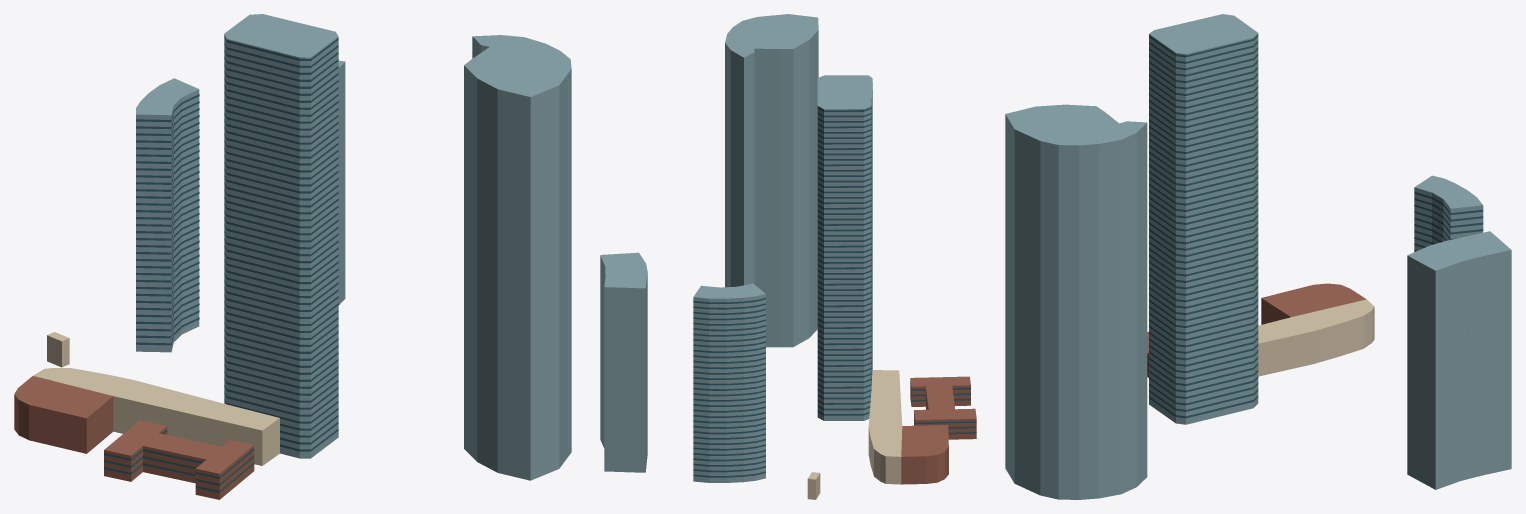
Rendered from city_4_2.glb.
The picture shows the model from 3 angles, left to right: view 1: azimuth 30°, elevation 25°; view 2: azimuth 150°, elevation 25°; view 3: azimuth 270°, elevation 25°; orthographic projection. The views are drawn at different scales.
Visible parts, largest first — view 1: city_4_2; view 2: city_4_2; view 3: city_4_2.
Boxes of the visible parts, bbox=[...] form: city_4_2: bbox=[14, 14, 571, 499]; city_4_2: bbox=[600, 14, 976, 499]; city_4_2: bbox=[1005, 14, 1511, 499].
Bounding box in the file's own units: 244 × 230 × 285.
